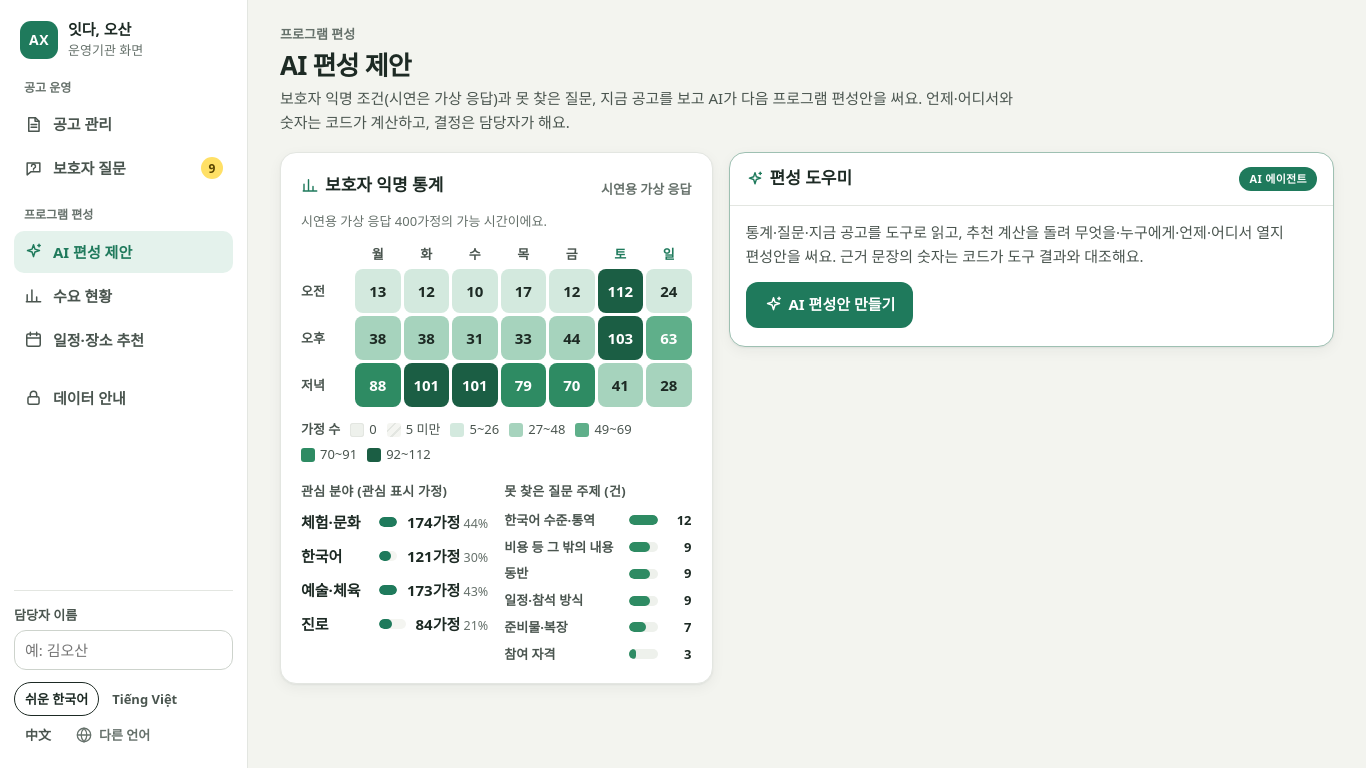
Scenario: AI 편성 제안 › 보호자 질문을 보내 편성안을 받고, 숫자의 근거와 지금 관행과의 비교를 보여 주며, 추천 화면으로 넘긴다
The width and height of the screenshot is (1366, 768).
expect the heading "보호자 익명 통계" is shown: met, box [301,171,443,198]
What coordinates should you click on to do the following:
click the button "AI 편성안 만들기"
I would click on:
 (829, 305)
Its box is [746,282,913,328].
(page scrolled)
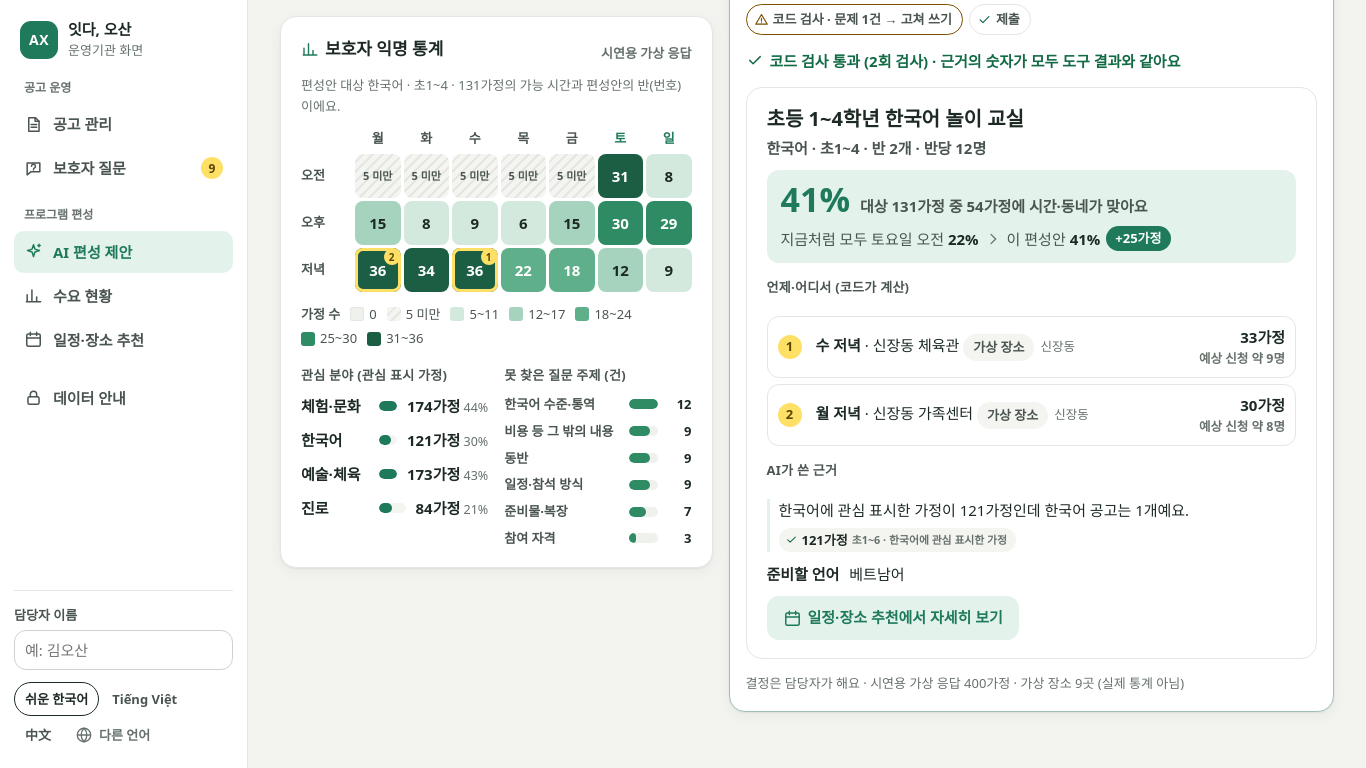
expect the heading "초등 1~4학년 한국어 놀이 교실" is shown: met, box [766,105,1024,132]
expect the text "코드 검사 통과 (2회 검사) · 근거의 숫자가 모두 도구 결과와 같아요" is shown: met, box [746,51,1180,71]
expect the text "41%" next to "대상 131가정 중 54가정에 시간·동네가 맞아요" is shown: met, box [780,176,850,222]
What coordinates should you click on to do the following:
click the button "일정·장소 추천에서 자세히 보기"
I would click on:
 (893, 618)
Its box is [766,596,1019,640].
(page scrolled)
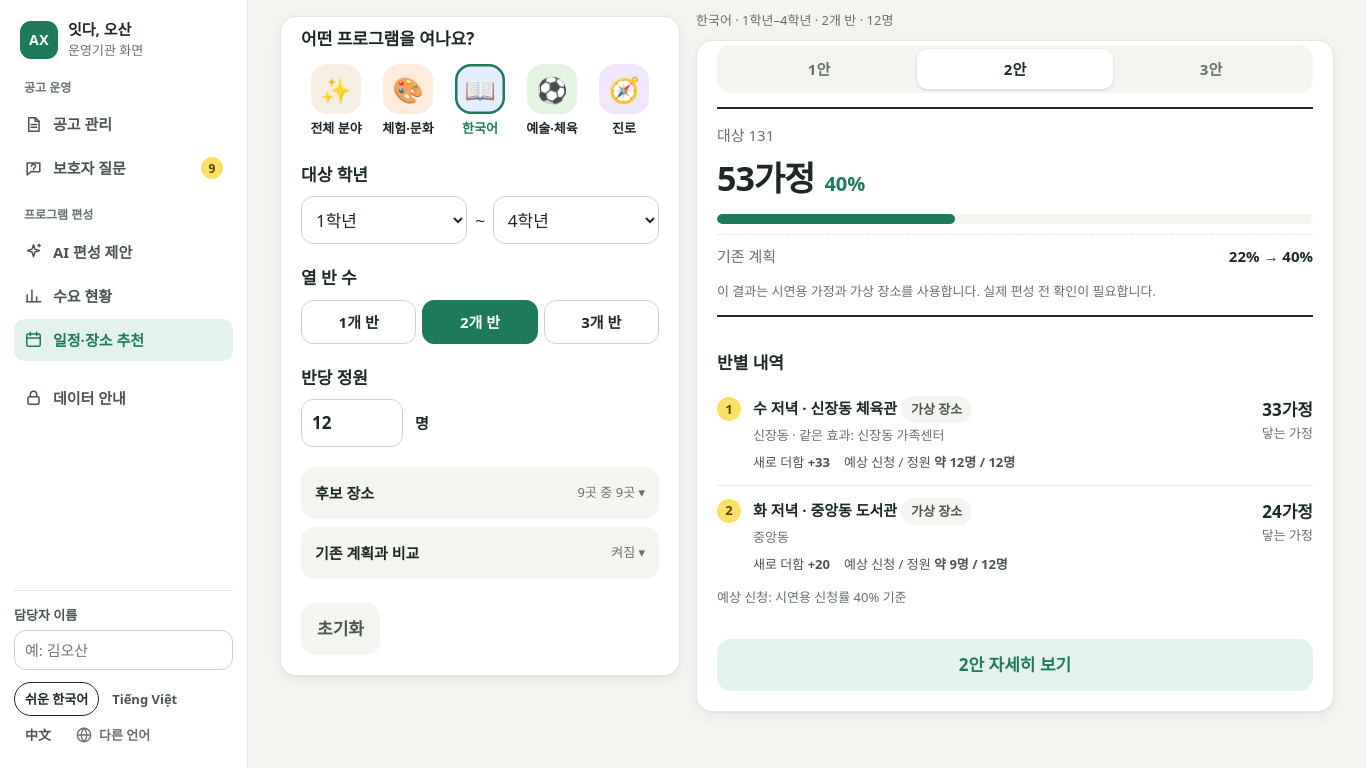
expect the radio button labelled "2개 반" is shown: met, box [422,300,538,344]
# 추천 화면을 다녀와도 편성안이 남는다
What coordinates should you click on to do the following:
click the link "AI 편성 제안"
I would click on:
 (78, 252)
Its box is [24,242,132,262].
(page scrolled)
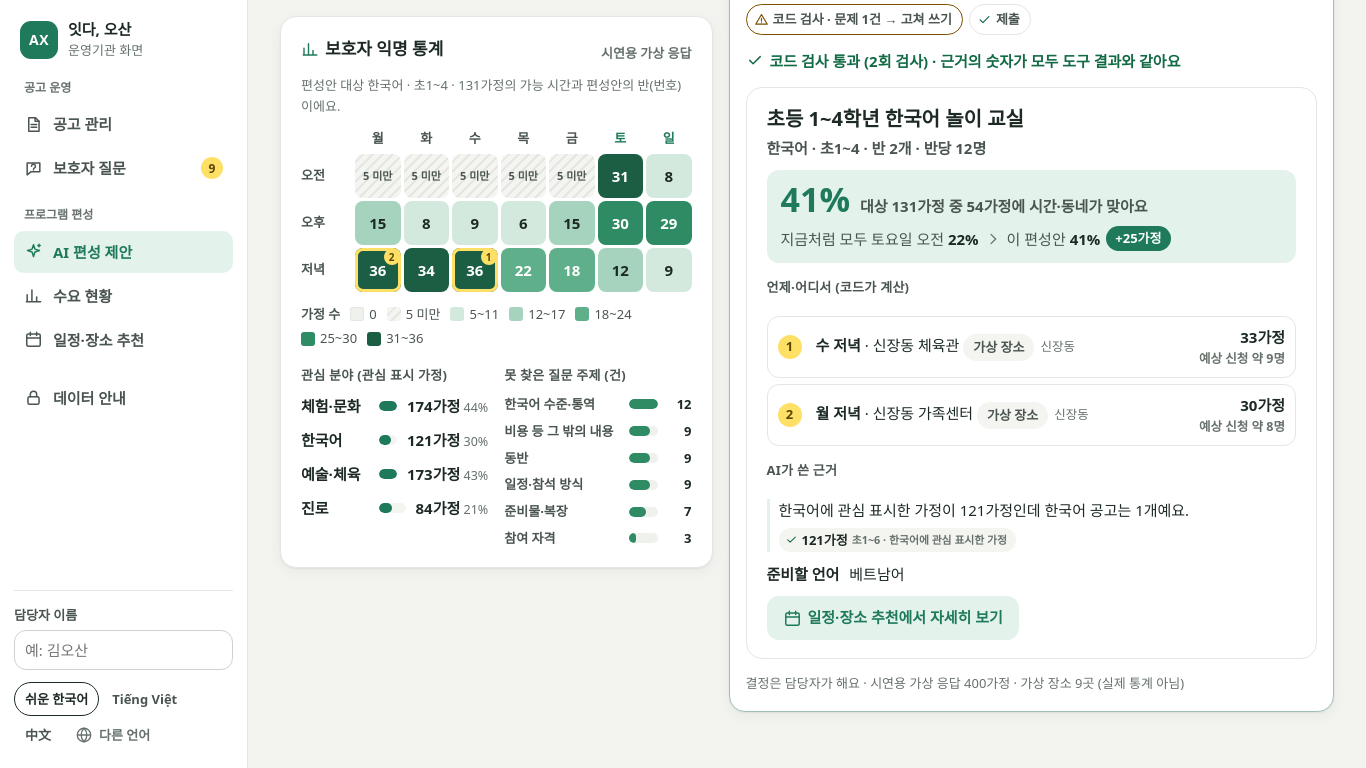
expect the heading "초등 1~4학년 한국어 놀이 교실" is shown: met, box [766,105,1024,132]
